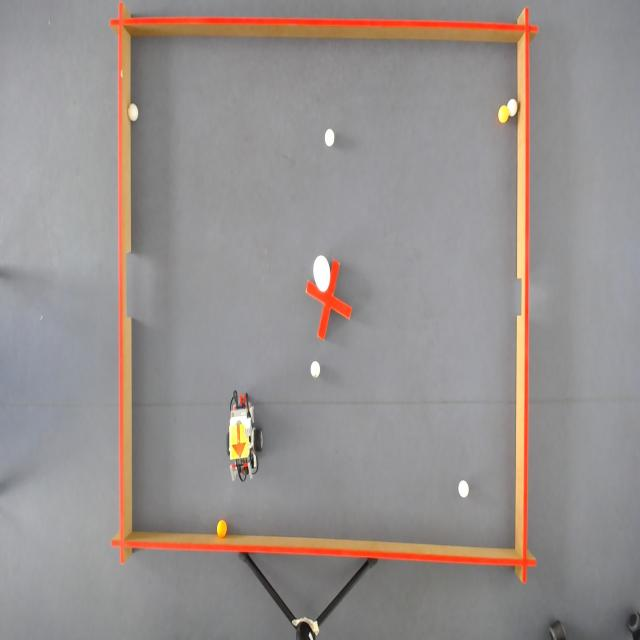cross: (305, 258, 353, 340)
egg: (312, 252, 332, 295)
orange_ball: (216, 517, 228, 539), (498, 104, 510, 124)
robot: (229, 421, 250, 461)
white_ball: (457, 478, 470, 501), (506, 96, 519, 119), (127, 102, 140, 124), (324, 125, 336, 148), (309, 358, 321, 379)
